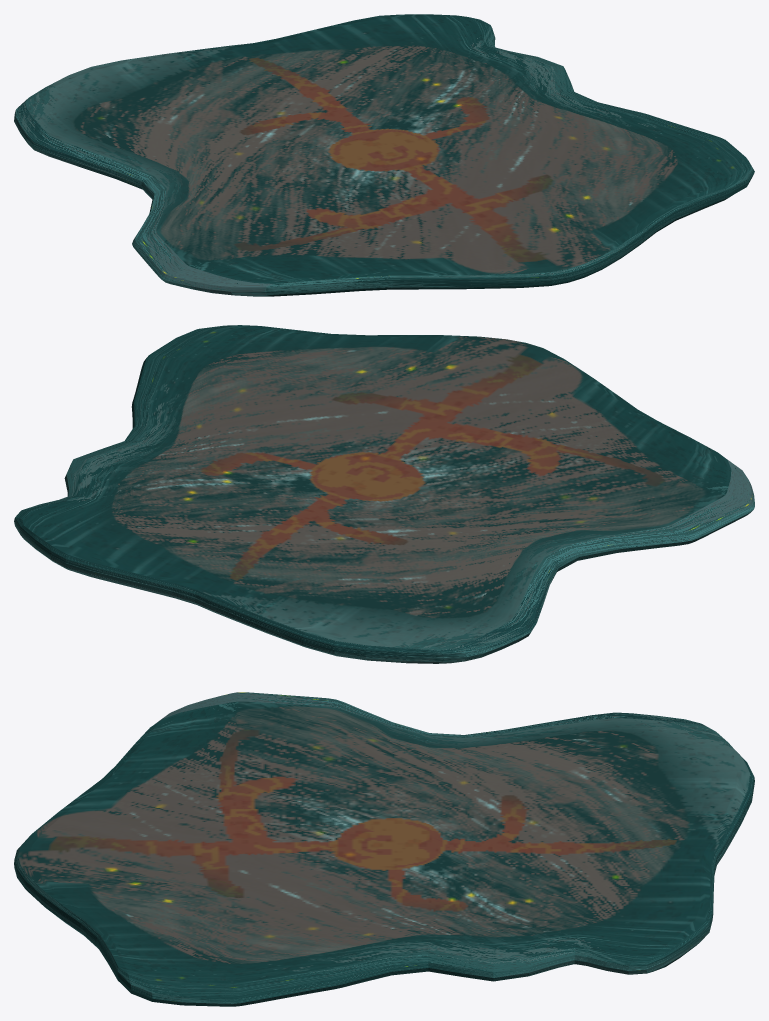
Rendered from ground.fbx.
3 renders of one model, top to bottom at view 1: azimuth 30°, elevation 25°; view 2: azimuth 150°, elevation 25°; view 3: azimuth 270°, elevation 25°, orthographic. The views are drawn at different scales.
Parts seen in each view (by area): view 1: Cube; view 2: Cube; view 3: Cube.
Boxes of the visible parts, left/top/right/bottom form: Cube: left=14, top=14, right=754, bottom=296; Cube: left=14, top=325, right=754, bottom=663; Cube: left=14, top=692, right=754, bottom=1006.
Size of the model in its own units: 1668 by 47.17 by 1691.
Materials: 1 (1 with a texture image).
